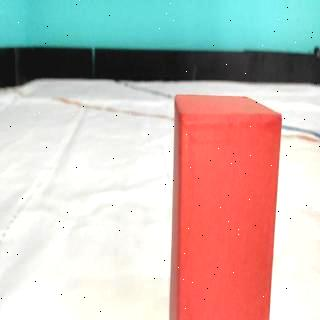redbox: (170, 93, 282, 320)
